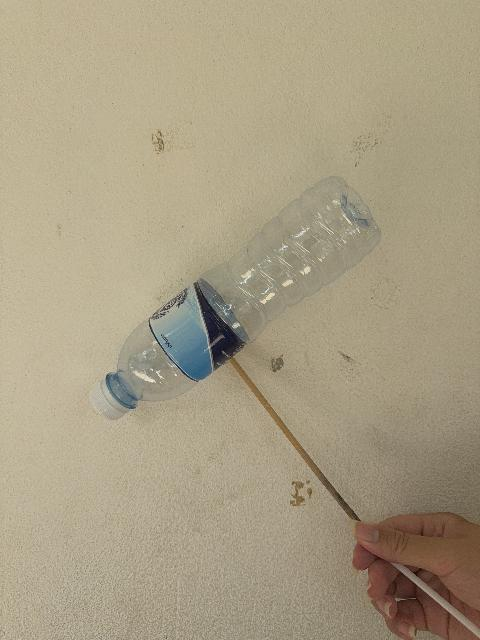bottle: (91, 177, 380, 419)
